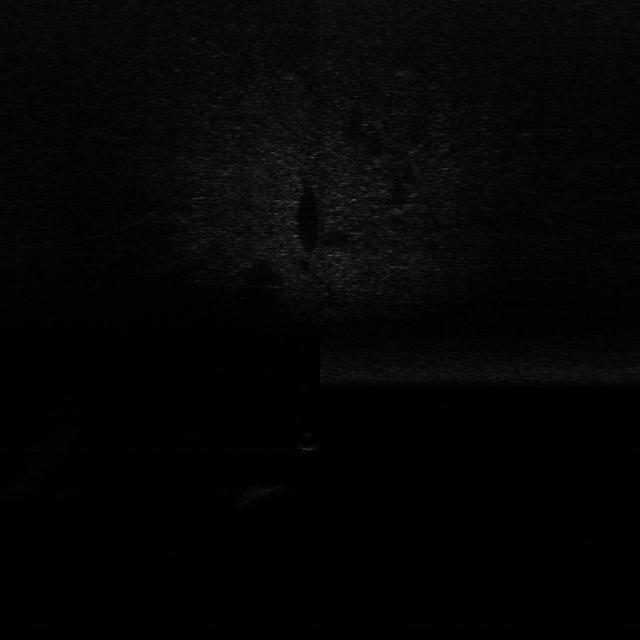ball: (300, 431, 326, 452)
square cage: (242, 484, 288, 500)
